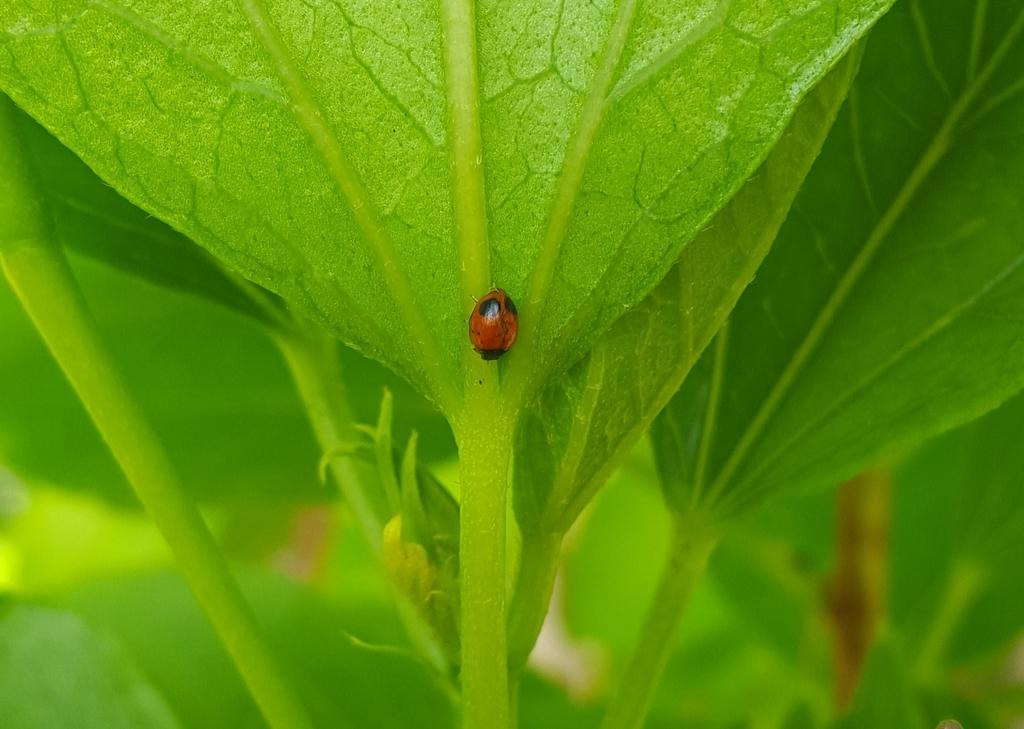ladybug: (466, 285, 523, 365)
